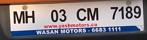0: (50, 9, 59, 23)
1: (120, 7, 125, 20)
3: (59, 9, 67, 22)
7: (109, 5, 119, 21)
8: (126, 6, 133, 19)
9: (134, 6, 142, 20)
C: (76, 7, 87, 21)
H: (25, 10, 37, 24)
M: (12, 9, 25, 25), (87, 7, 100, 21)
